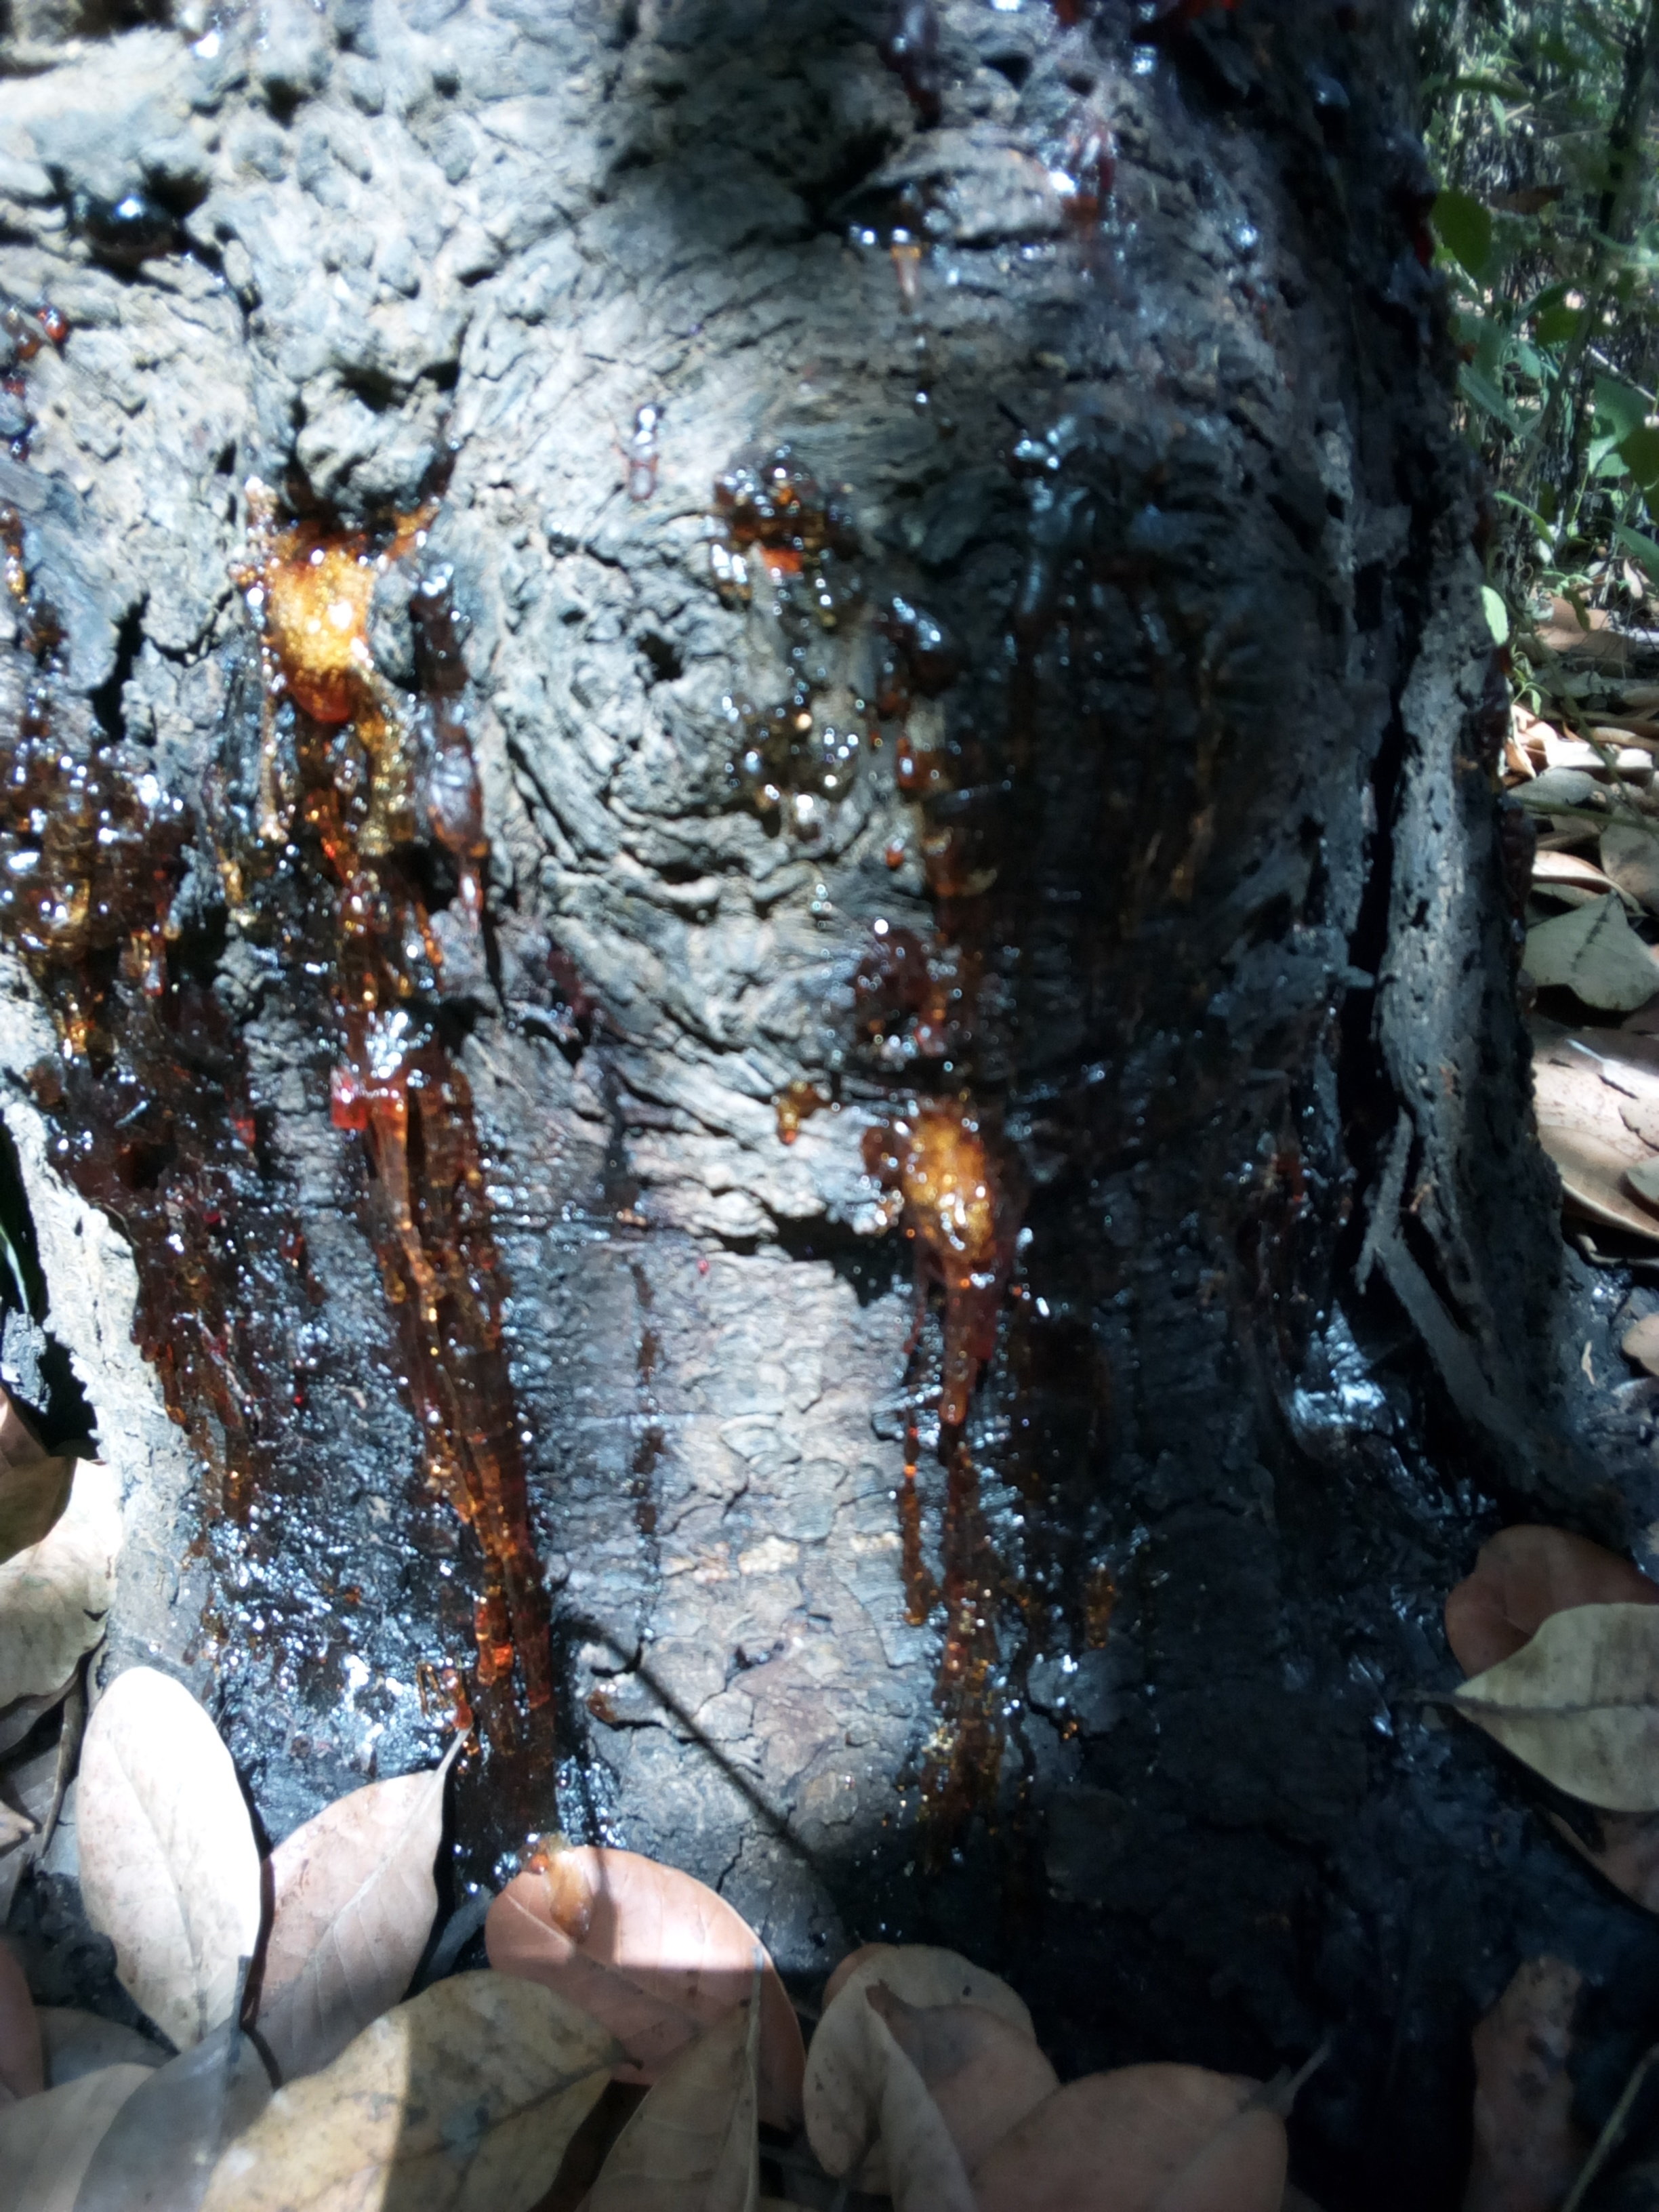Gommose: (247, 529, 579, 1733), (857, 557, 1087, 1834), (7, 733, 244, 1386)
